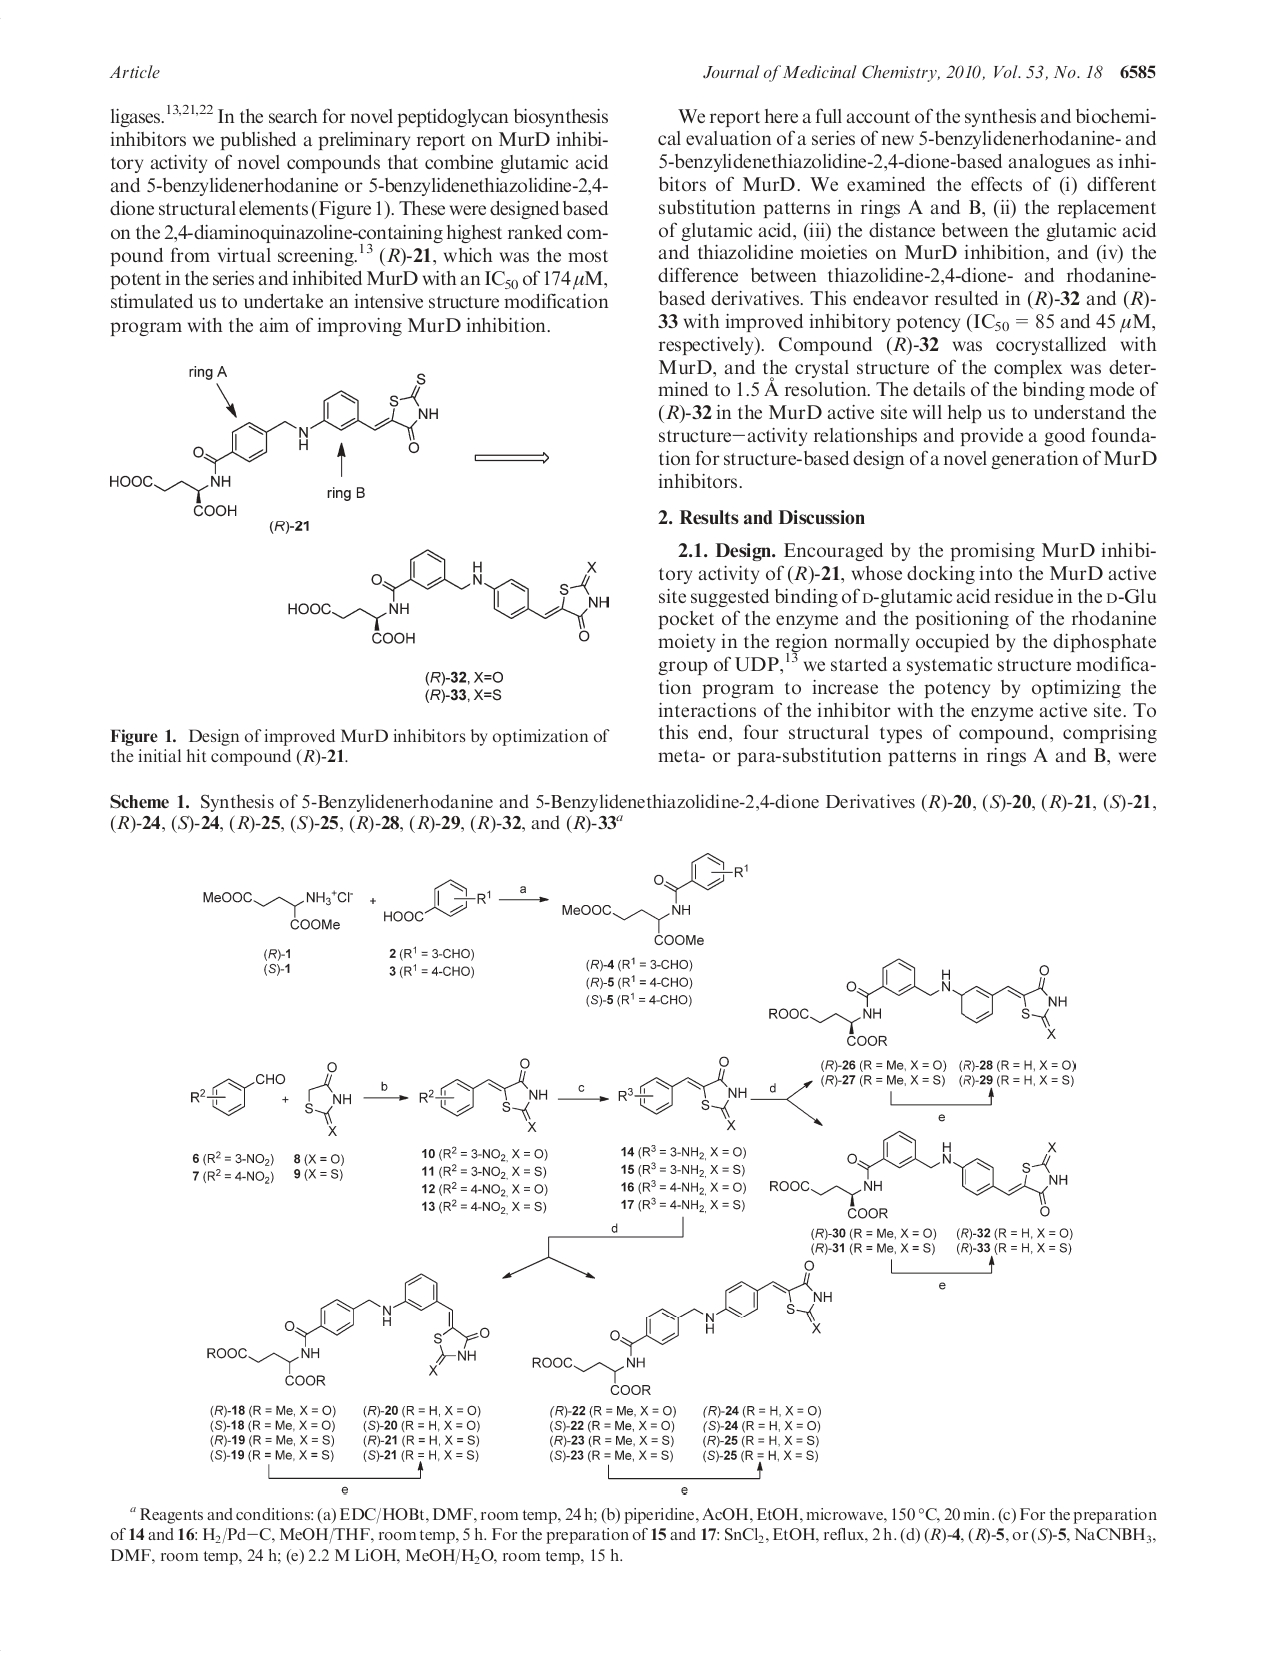exist_molecular: (109, 370, 443, 520), (531, 1259, 836, 1396), (205, 1273, 493, 1386), (289, 544, 612, 644), (765, 955, 1071, 1048), (769, 1138, 1071, 1221), (561, 846, 751, 946), (186, 1060, 354, 1136), (415, 1056, 551, 1132), (614, 1056, 746, 1130), (198, 888, 356, 931), (382, 874, 493, 922)
